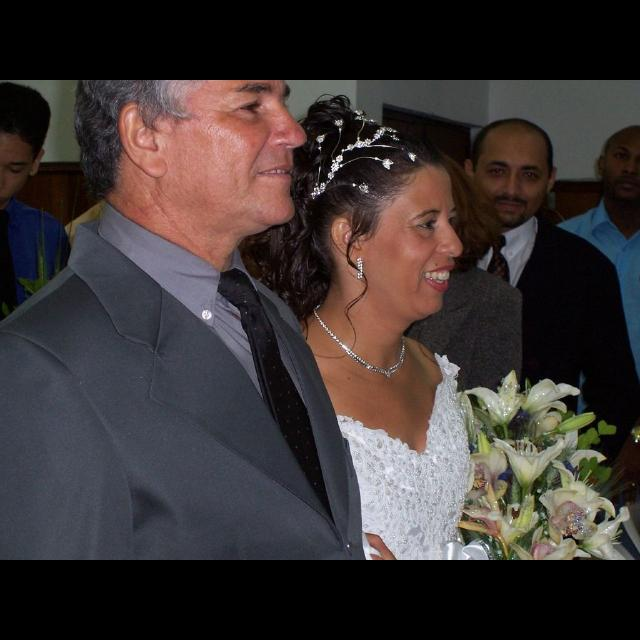Flower: (458, 367, 630, 559)
